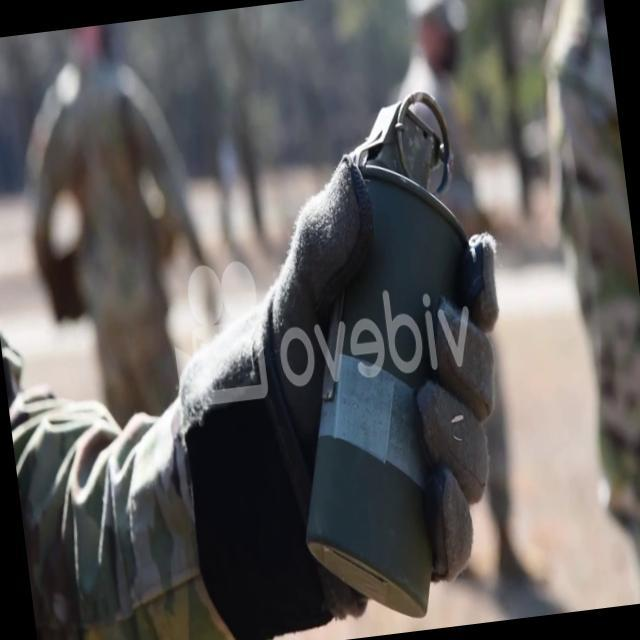grenade: (250, 80, 520, 623)
